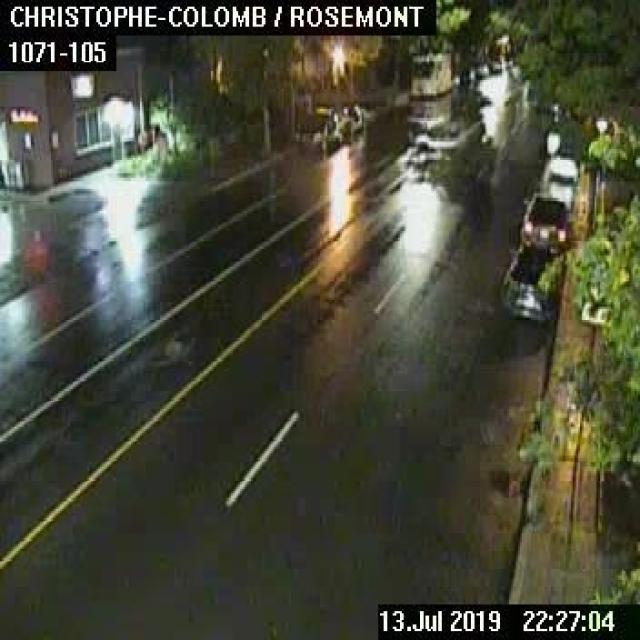vehicle: (500, 239, 563, 322), (519, 191, 566, 252), (293, 107, 337, 151), (540, 156, 577, 208), (410, 49, 449, 96), (339, 102, 361, 138)
